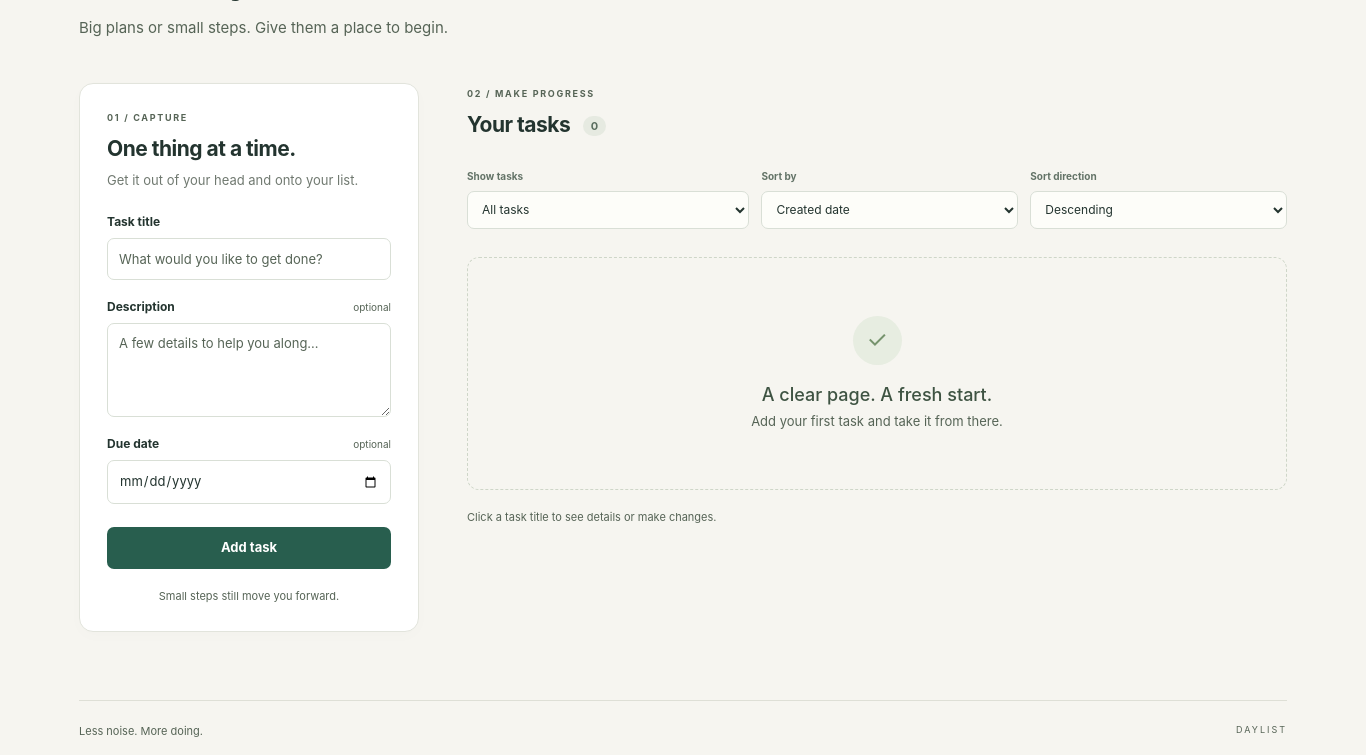
Test: validates blank titles, then creates a task with optional fields
(page scrolled)
Expected: the heading "A clear page. A fresh start." is shown, [762,384,992,405]
Click the button "Add task" at (249, 548), box [107,527,391,569]
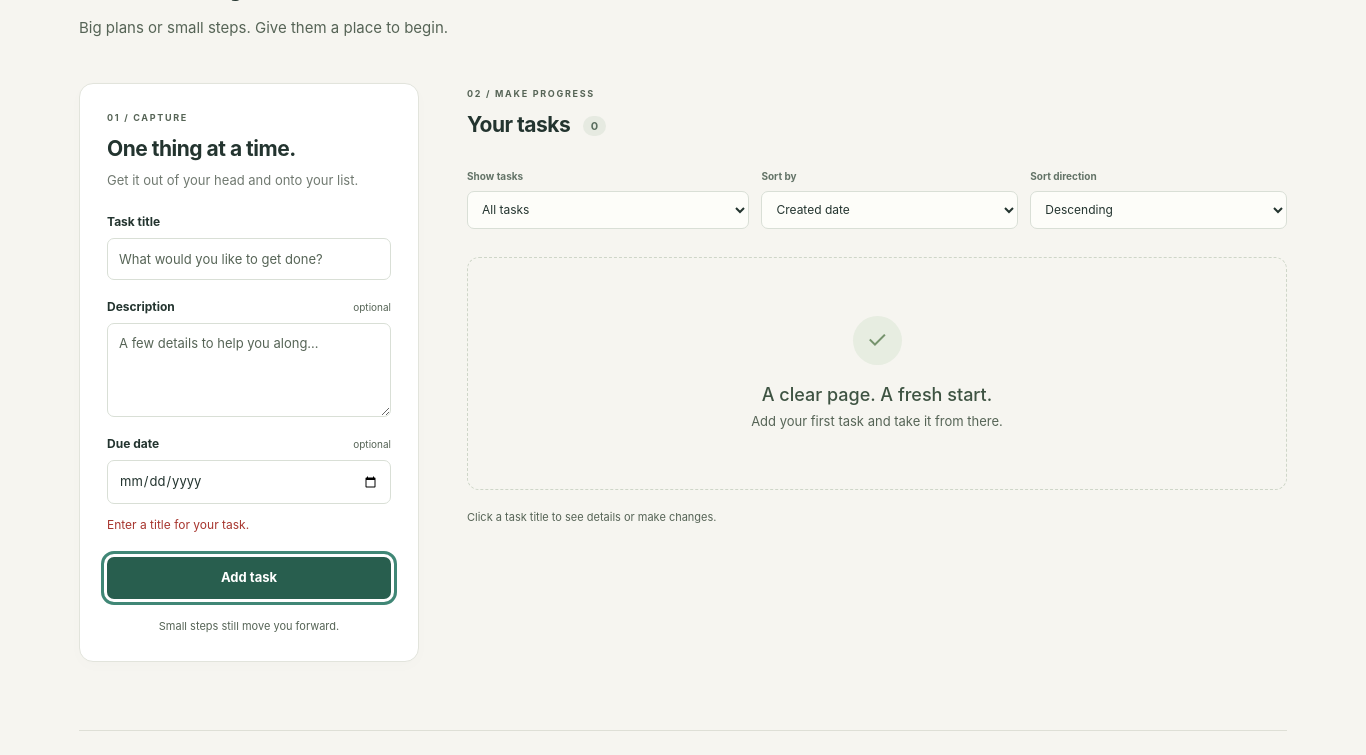
Result: the text "Enter a title for your task." is shown at [107,517,249,532]
Type "  Prepare notes  " into the field labelled "Task title" at (249, 259), box [107,238,391,280]
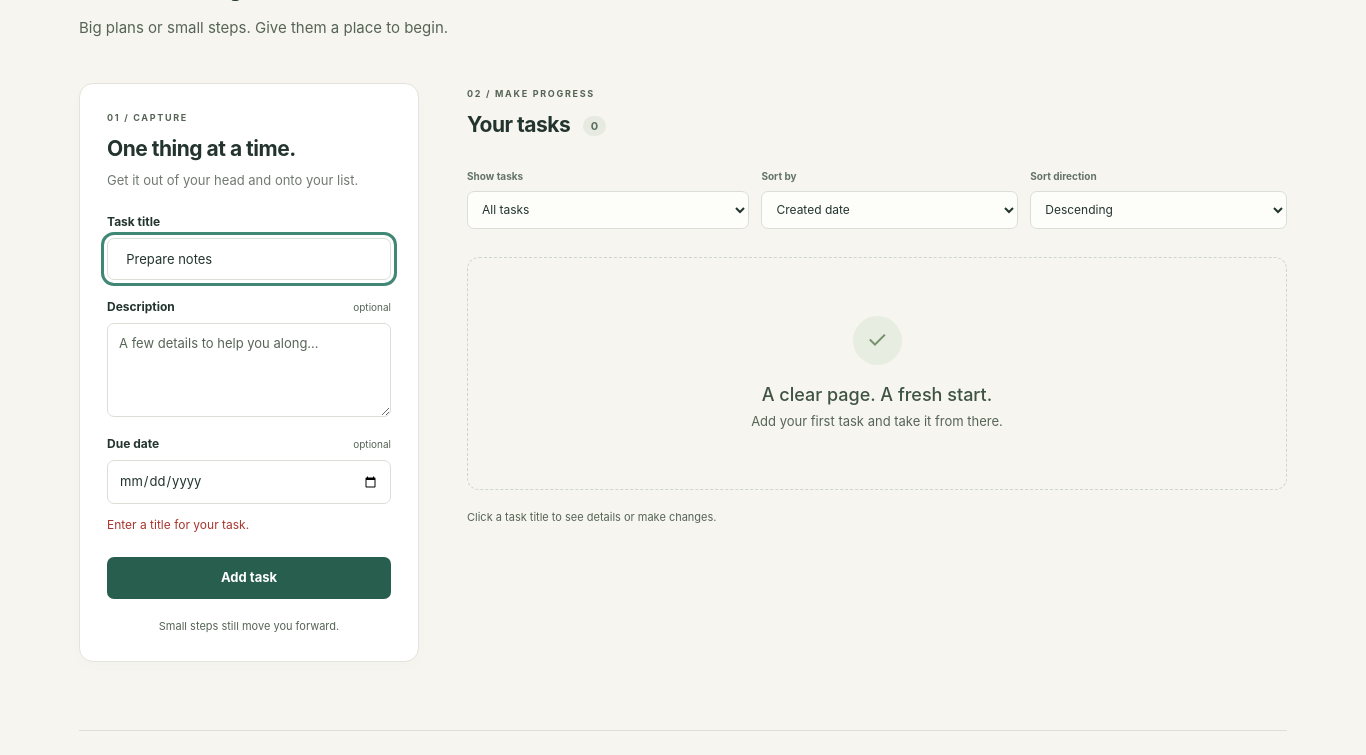
Type "Read the brief" into the text box labelled "Description" at (249, 370), box [107,323,391,417]
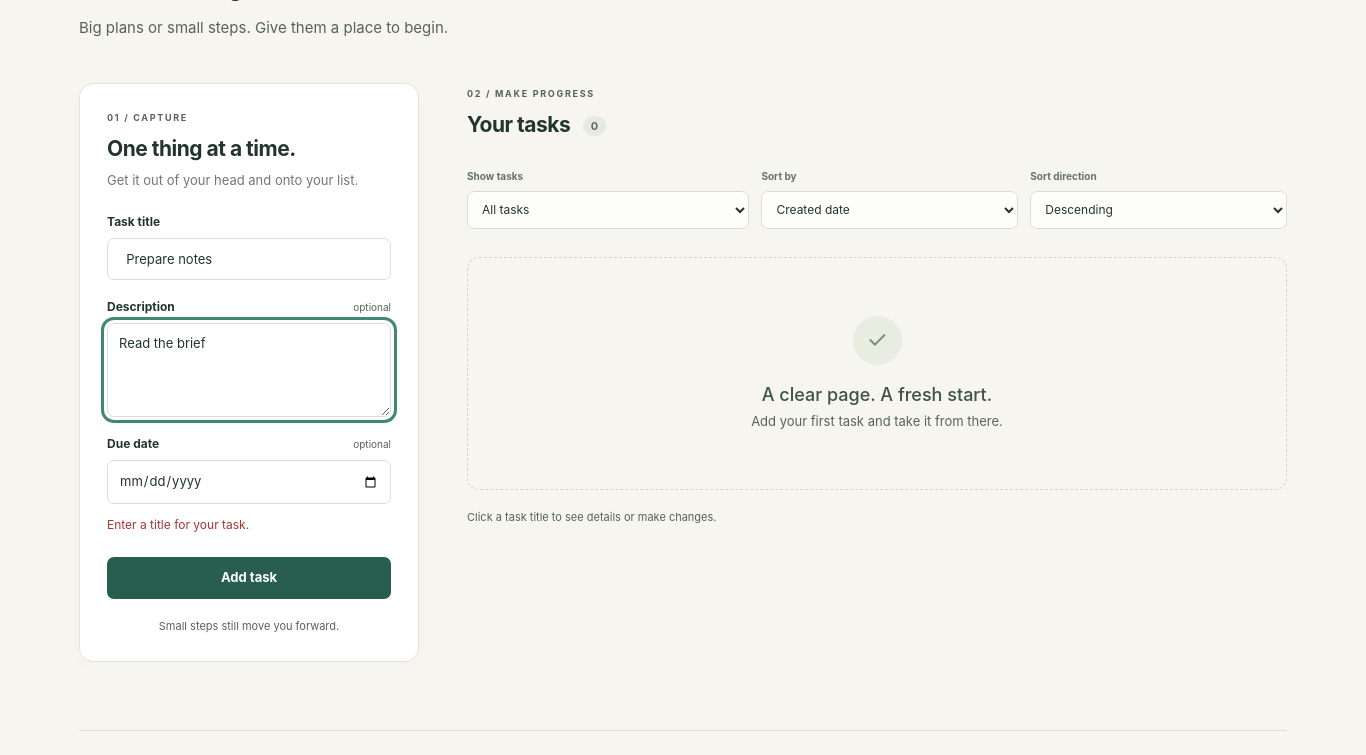
Click the button "Add task" at (249, 578), box [107,557,391,599]
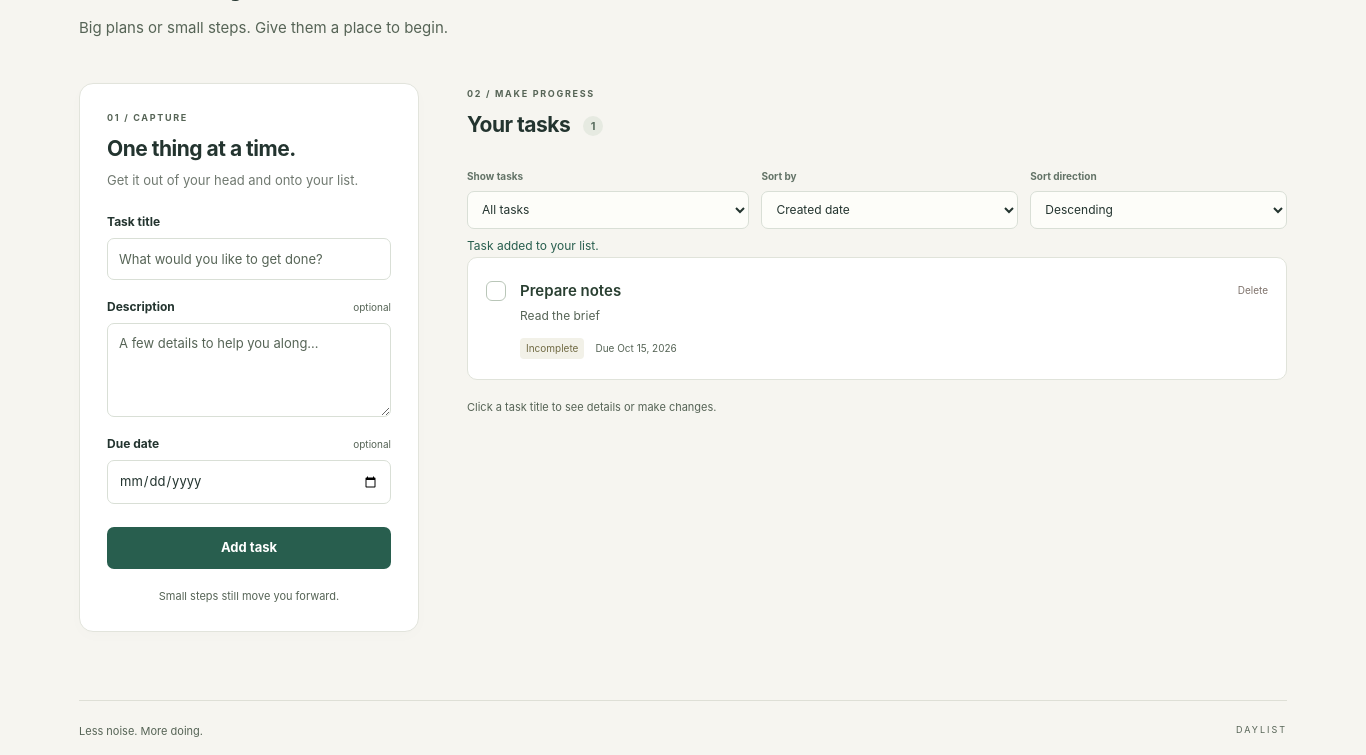
Result: the button "Prepare notes" is shown at [520,280,621,302]
Result: the field labelled "Task title" is empty at [107,238,391,280]
